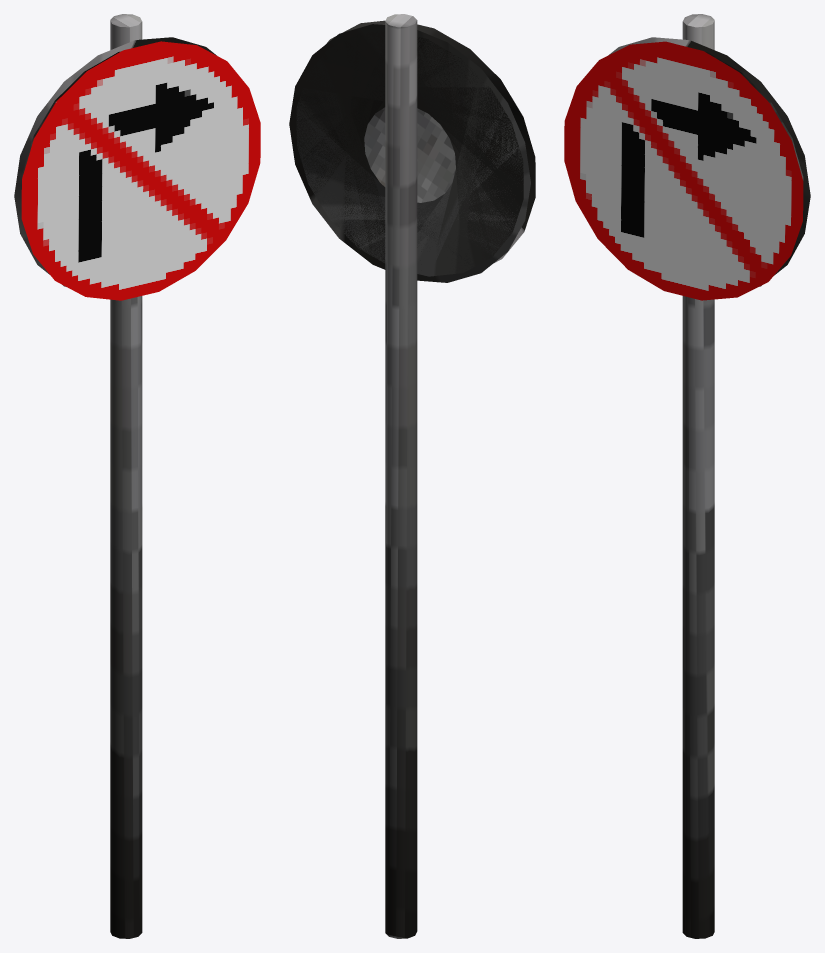
File: SeñalDireccionProhi.fbx
3 renders of one model, left to right at view 1: azimuth 30°, elevation 25°; view 2: azimuth 150°, elevation 25°; view 3: azimuth 330°, elevation 25°, orthographic.
Visible parts, largest first — view 1: Señal_Redonda, Palo; view 2: Señal_Redonda, Palo; view 3: Señal_Redonda, Palo.
Boxes of the visible parts, <box> form: Señal_Redonda: <box>14,37,260,300</box>; Palo: <box>110,14,142,938</box>; Señal_Redonda: <box>289,20,535,282</box>; Palo: <box>385,14,417,938</box>; Señal_Redonda: <box>564,37,810,300</box>; Palo: <box>682,14,714,938</box>.
Bounding box in the file's own units: 69.4 × 250 × 11.26.
